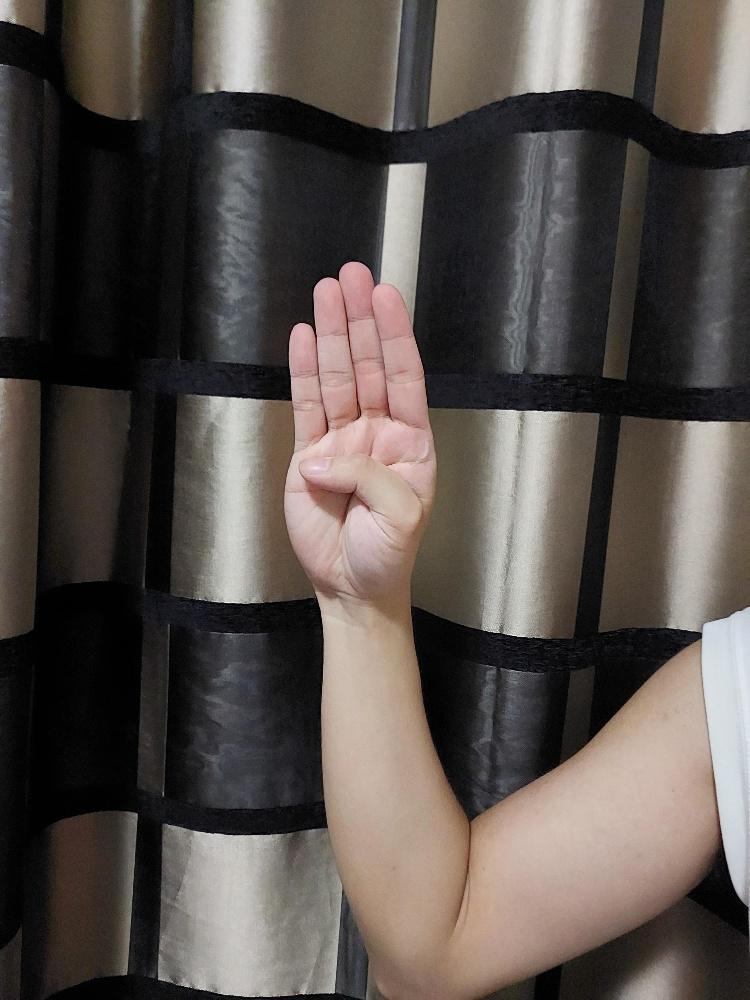b: (283, 257, 437, 604)
